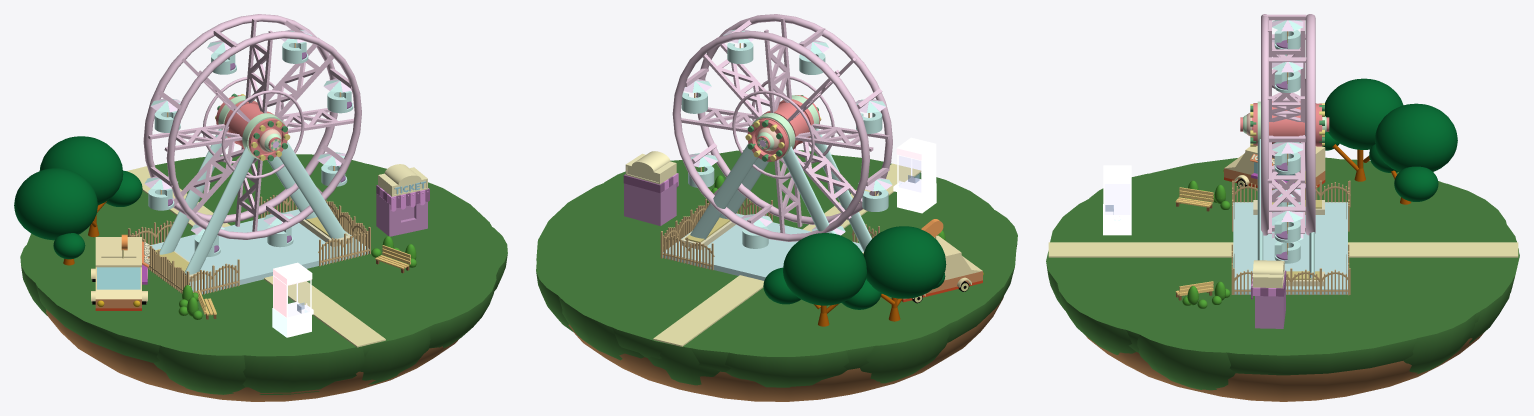
The picture shows the model from 3 angles, left to right: view 1: azimuth 30°, elevation 25°; view 2: azimuth 150°, elevation 25°; view 3: azimuth 270°, elevation 25°; orthographic projection.
Parts seen in each view (by area): view 1: hemisphere_9, hemisphere_10, hemisphere_4, hemisphere_7, hemisphere_6, box_305, circularRing_98, hemisphere_11, hemisphere_5, hemisphere_372, circularRing_99, hemisphere_8 (+31 smaller); view 2: hemisphere_10, hemisphere_4, hemisphere_3, hemisphere_9, hemisphere_11, hemisphere_2, circularRing_99, hemisphere_1, hemisphere_359, hemisphere_372, box_305, circularRing_98 (+30 smaller); view 3: hemisphere_4, hemisphere_10, hemisphere_6, hemisphere_9, hemisphere_8, hemisphere_11, box_305, hemisphere_5, hemisphere_0, hemisphere_359, hemisphere_372, hemisphere_1 (+16 smaller).
Part boxes in pixels (x1,y1,x2,y2): hemisphere_9: (92, 205, 449, 394); hemisphere_10: (25, 156, 501, 362); hemisphere_4: (79, 155, 435, 304); hemisphere_7: (224, 263, 437, 384); hemisphere_6: (239, 218, 496, 348); box_305: (150, 209, 368, 294); circularRing_98: (166, 31, 361, 239); hemisphere_11: (46, 309, 458, 401); hemisphere_5: (122, 287, 324, 394); hemisphere_372: (14, 168, 97, 222); circularRing_99: (143, 14, 337, 223); hemisphere_8: (307, 207, 507, 290); hemisphere_10: (536, 152, 1016, 372); hemisphere_4: (551, 193, 883, 360); hemisphere_3: (642, 287, 919, 387); hemisphere_9: (648, 161, 1005, 313); hemisphere_11: (568, 297, 1003, 401); hemisphere_2: (758, 298, 962, 383); circularRing_99: (672, 31, 869, 241); hemisphere_1: (610, 290, 839, 385); hemisphere_359: (783, 233, 866, 288); hemisphere_372: (863, 226, 946, 281); box_305: (663, 213, 863, 280); circularRing_98: (696, 14, 892, 224); hemisphere_4: (1160, 192, 1515, 343); hemisphere_10: (1047, 157, 1519, 375); hemisphere_6: (1057, 223, 1307, 354); hemisphere_9: (1050, 170, 1401, 319); hemisphere_8: (1120, 275, 1325, 390); hemisphere_11: (1085, 332, 1484, 401); box_305: (1233, 202, 1347, 294); hemisphere_5: (1081, 170, 1257, 242); hemisphere_0: (1297, 283, 1483, 374); hemisphere_359: (1375, 103, 1457, 157); hemisphere_372: (1325, 78, 1403, 132); hemisphere_1: (1349, 202, 1518, 299).
Size of the model in its own units: 66 by 51.04 by 66.17.
